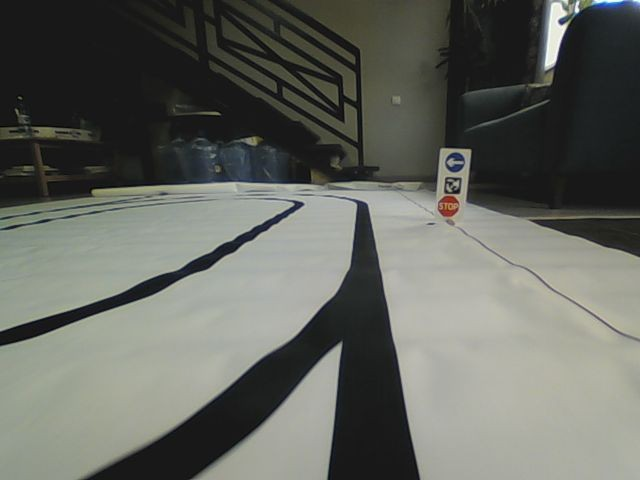Stop: (437, 195, 461, 218)
